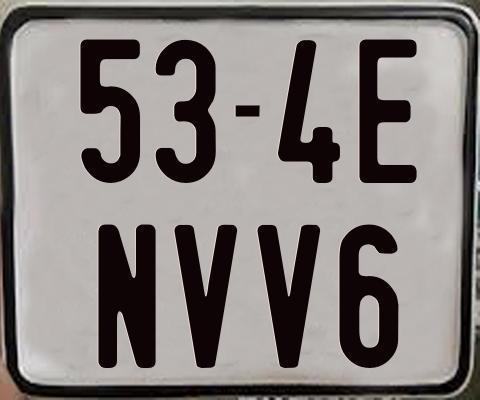3: (153, 37, 214, 186)
4: (278, 37, 342, 181)
5: (79, 38, 142, 182)
6: (338, 222, 400, 366)
E: (359, 36, 420, 182)
N: (95, 224, 155, 374)
V: (174, 225, 240, 370), (257, 222, 321, 365)
